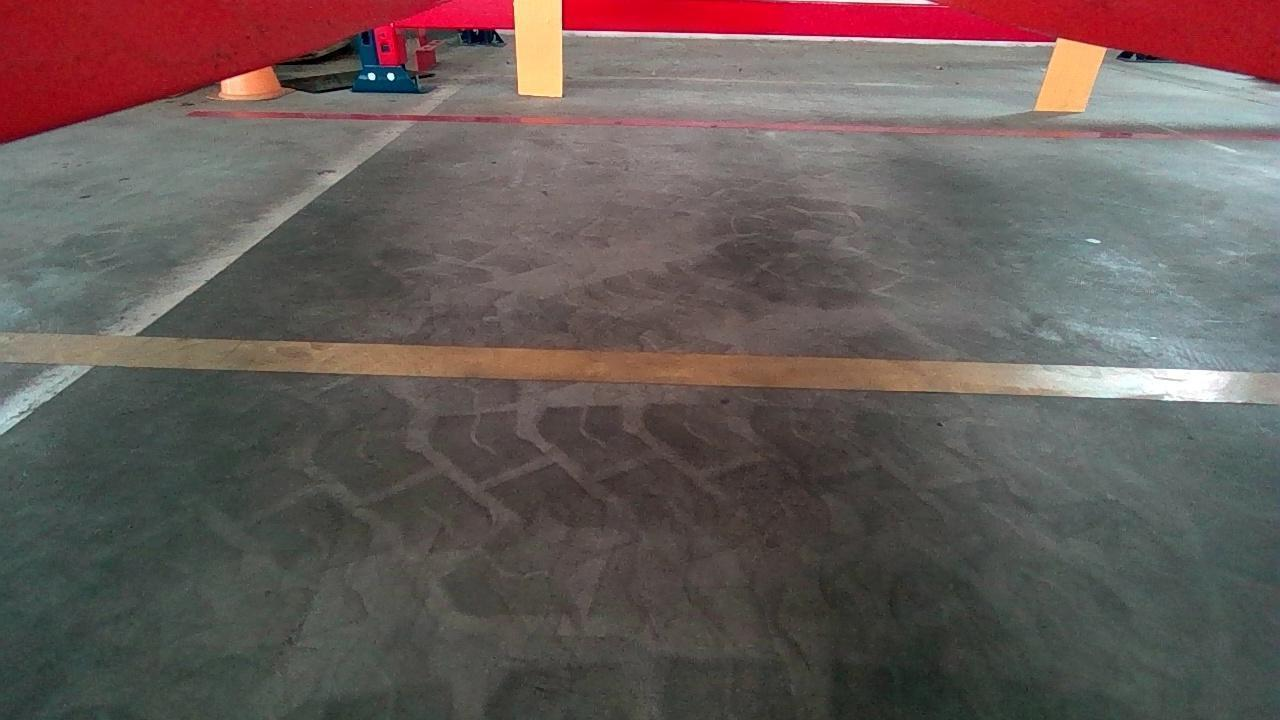red_line: (186, 107, 1280, 136)
yellow_line: (2, 335, 1280, 403)
